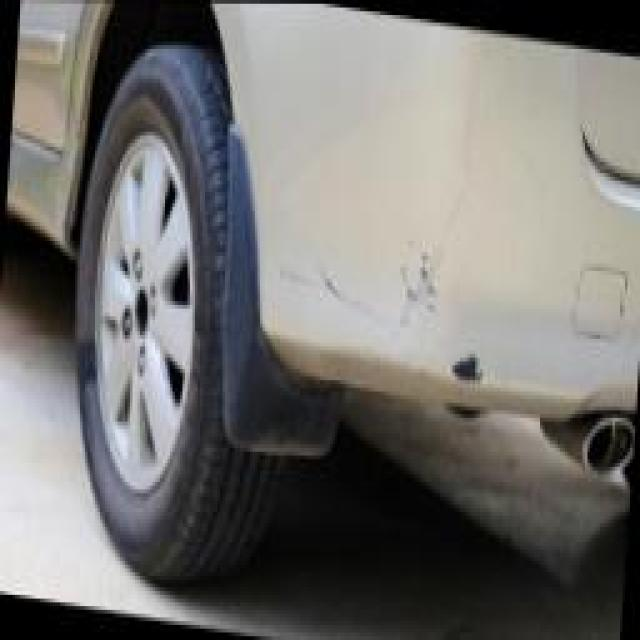Bumper: (275, 181, 640, 447)
